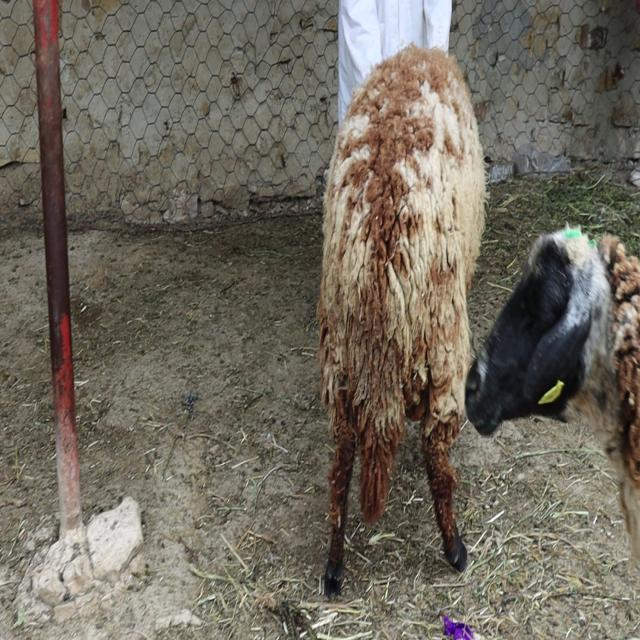Score_4: (317, 46, 485, 594)
